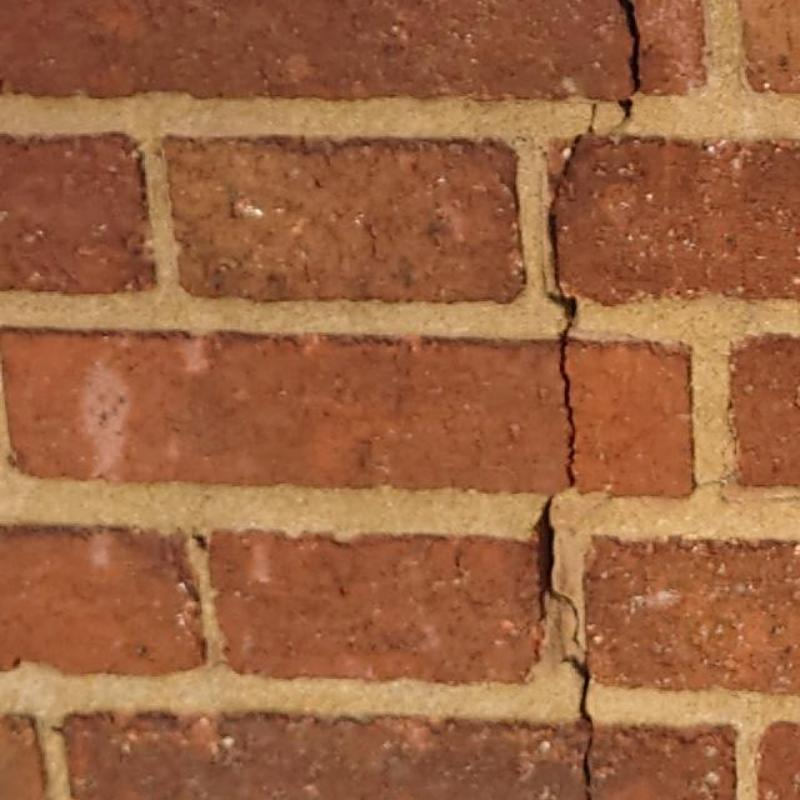pothole: (542, 102, 595, 337), (534, 498, 580, 647), (566, 656, 594, 799), (559, 336, 575, 485), (618, 0, 641, 91), (619, 98, 633, 119)
